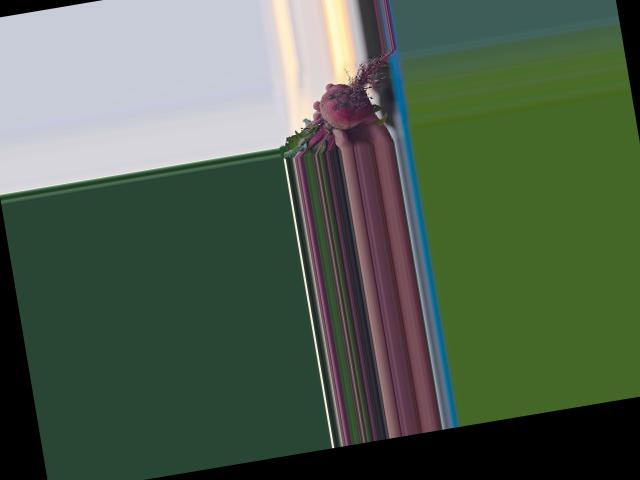beet: (266, 48, 409, 159)
